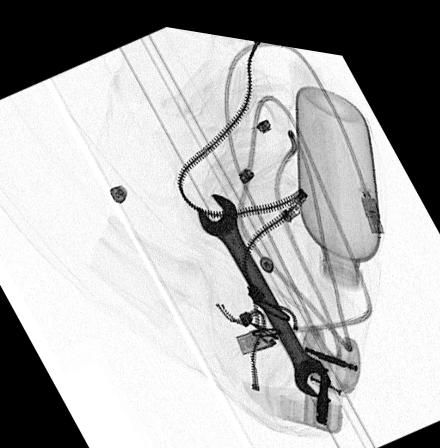Wrench: (196, 186, 331, 390)
